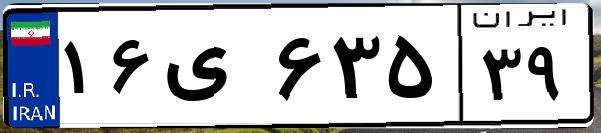1: (57, 26, 110, 100)
3: (330, 28, 385, 110), (475, 38, 525, 113)
5: (385, 28, 445, 110)
6: (270, 28, 330, 110), (110, 28, 158, 98)
9: (525, 38, 570, 115)
ی: (158, 20, 270, 120)
